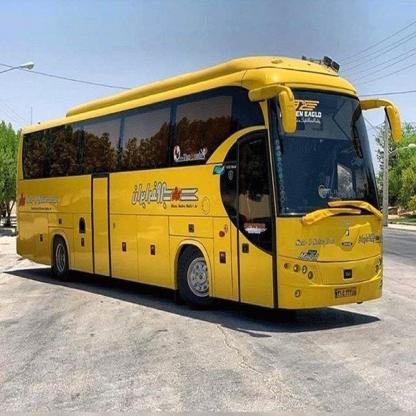Bus: (17, 45, 402, 313)
